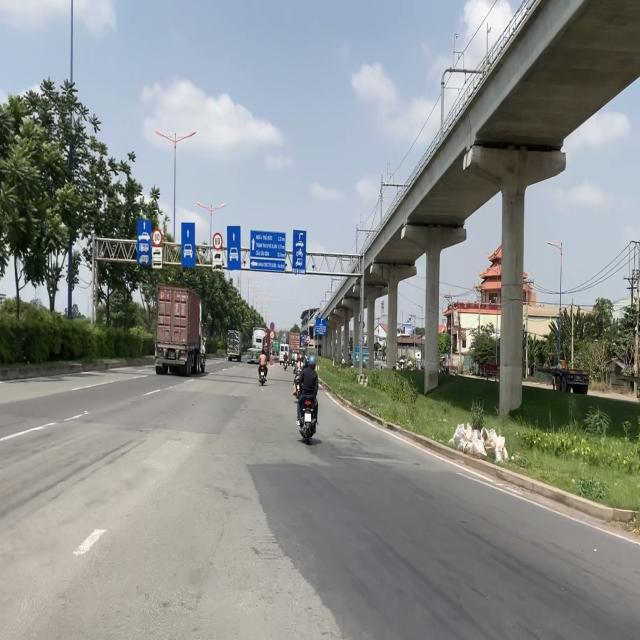Toc do toi da: (212, 232, 222, 251), (152, 228, 162, 246)
